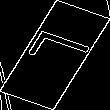L_SE: (16, 30, 94, 80)
